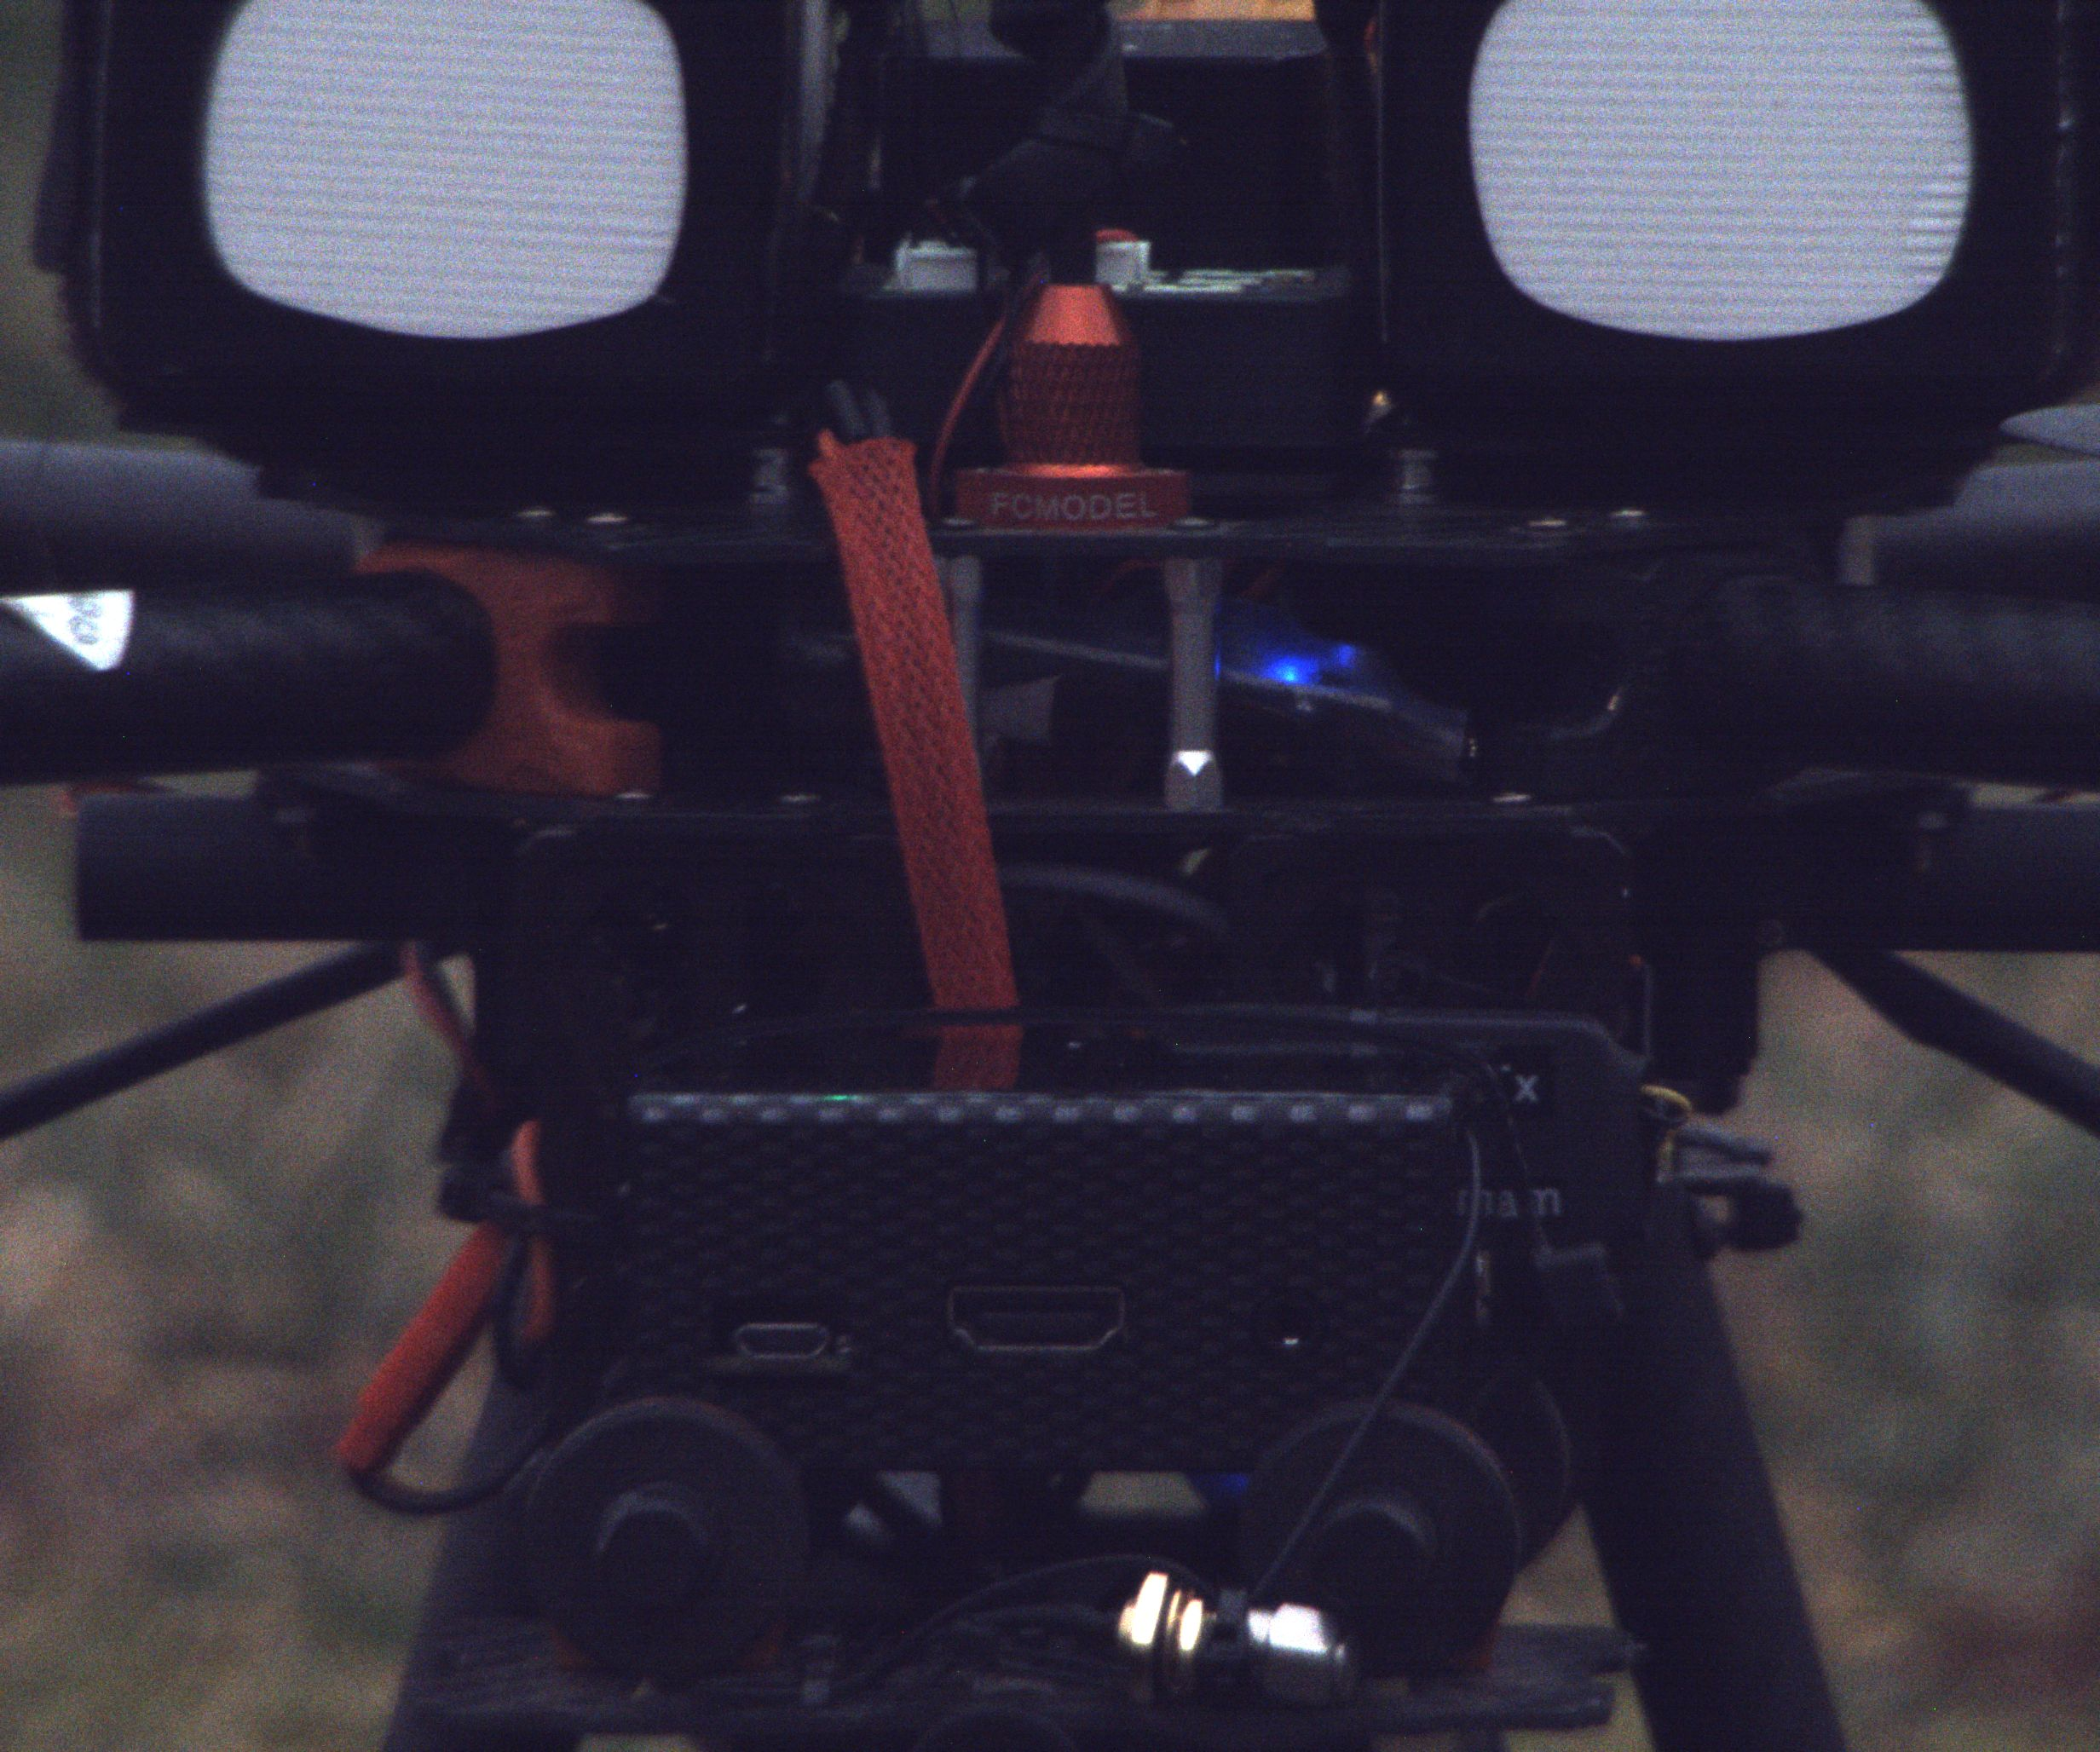Drohne: (5, 7, 2097, 1752)
